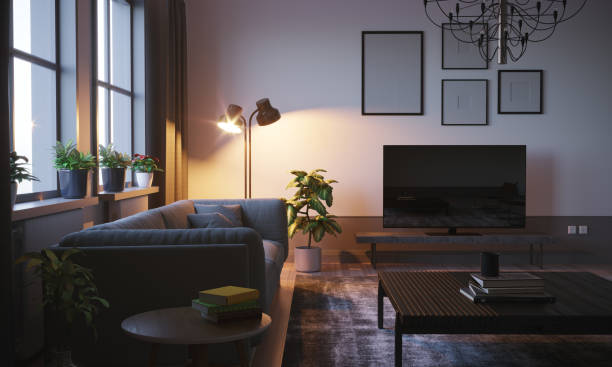TV: (379, 142, 529, 236)
TV stand: (353, 229, 554, 268)
floor lamp: (214, 96, 284, 198)
large plant: (19, 242, 110, 366), (284, 167, 343, 274)
side table: (121, 301, 276, 367)
small plant: (51, 139, 94, 198), (7, 150, 36, 209), (97, 143, 130, 192), (131, 150, 163, 186)
sofa: (42, 197, 291, 344)
table: (374, 268, 612, 367)
wall art: (359, 29, 424, 115), (438, 76, 490, 127), (440, 19, 490, 71), (496, 67, 545, 115)
